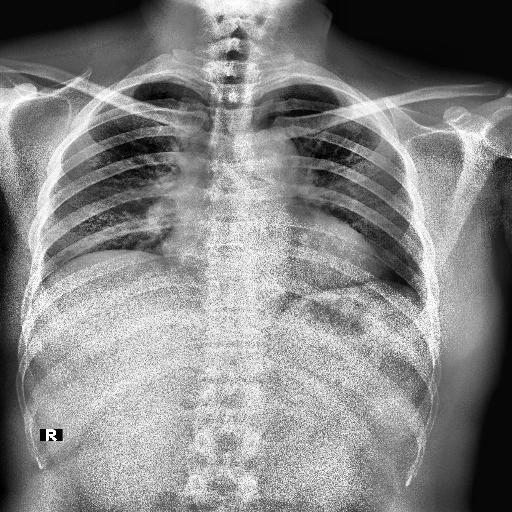0- Aortic enlargement: (239, 126, 301, 196), (237, 126, 301, 186), (244, 131, 300, 178)
3- Cardiomegaly: (165, 214, 380, 290), (158, 220, 382, 286), (159, 236, 381, 280)
